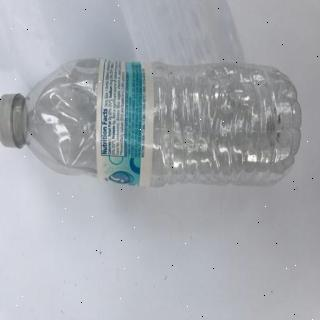Plastic-bottle: (1, 58, 304, 193)
